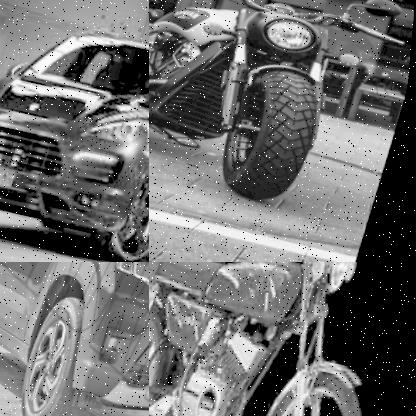bike: (149, 0, 387, 209), (149, 262, 416, 416)
car: (0, 262, 149, 416)
